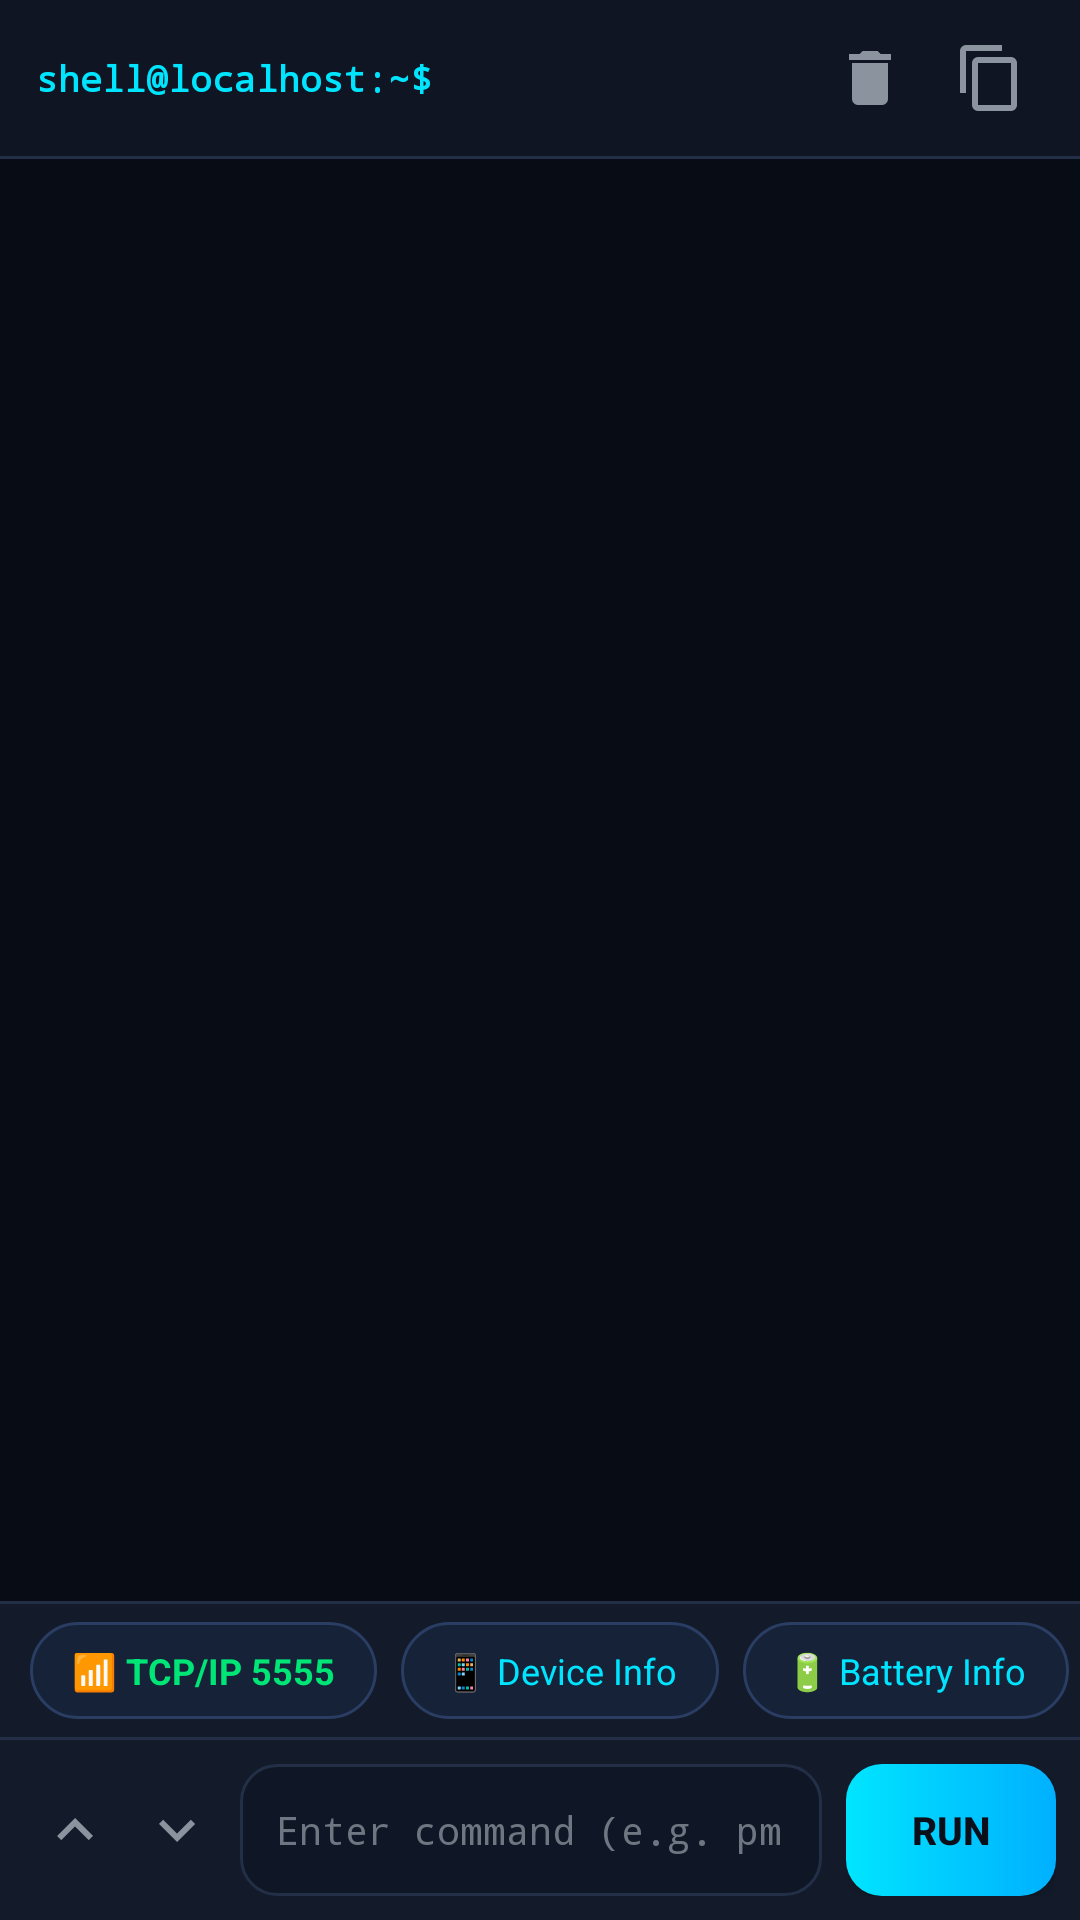

Screen size 1080 x 1920. Icon name, then its center in pixels as (x=x, y=y):
Clear Terminal: (x=870, y=78)
Copy All: (x=988, y=78)
History Down: (x=177, y=1831)
History Up: (x=75, y=1829)
